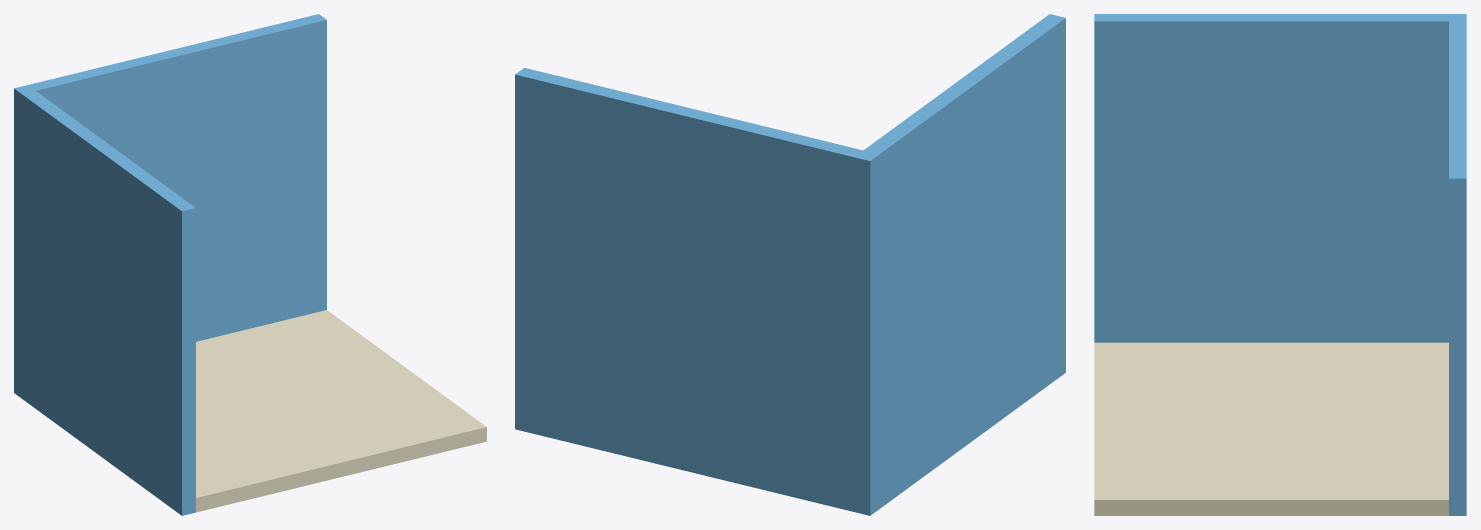
File: room_blue.glb
The picture shows the model from 3 angles, left to right: view 1: azimuth 30°, elevation 25°; view 2: azimuth 150°, elevation 25°; view 3: azimuth 270°, elevation 25°; orthographic projection. The views are drawn at different scales.
Visible parts, largest first — view 1: wall; view 2: wall; view 3: wall.
Boxes of the visible parts, box(x1,y1,x2,y2) form: wall: box(14, 14, 486, 515); wall: box(515, 14, 1065, 515); wall: box(1094, 14, 1466, 515).
Bounding box in the file's own units: 0.44 × 0.42 × 0.42.
1 material, 1 textured.
